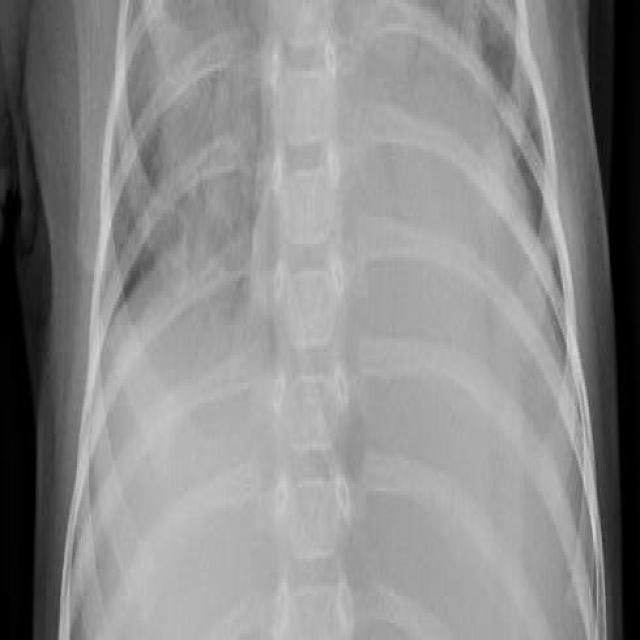high-pneumonia: (137, 1, 263, 298)
